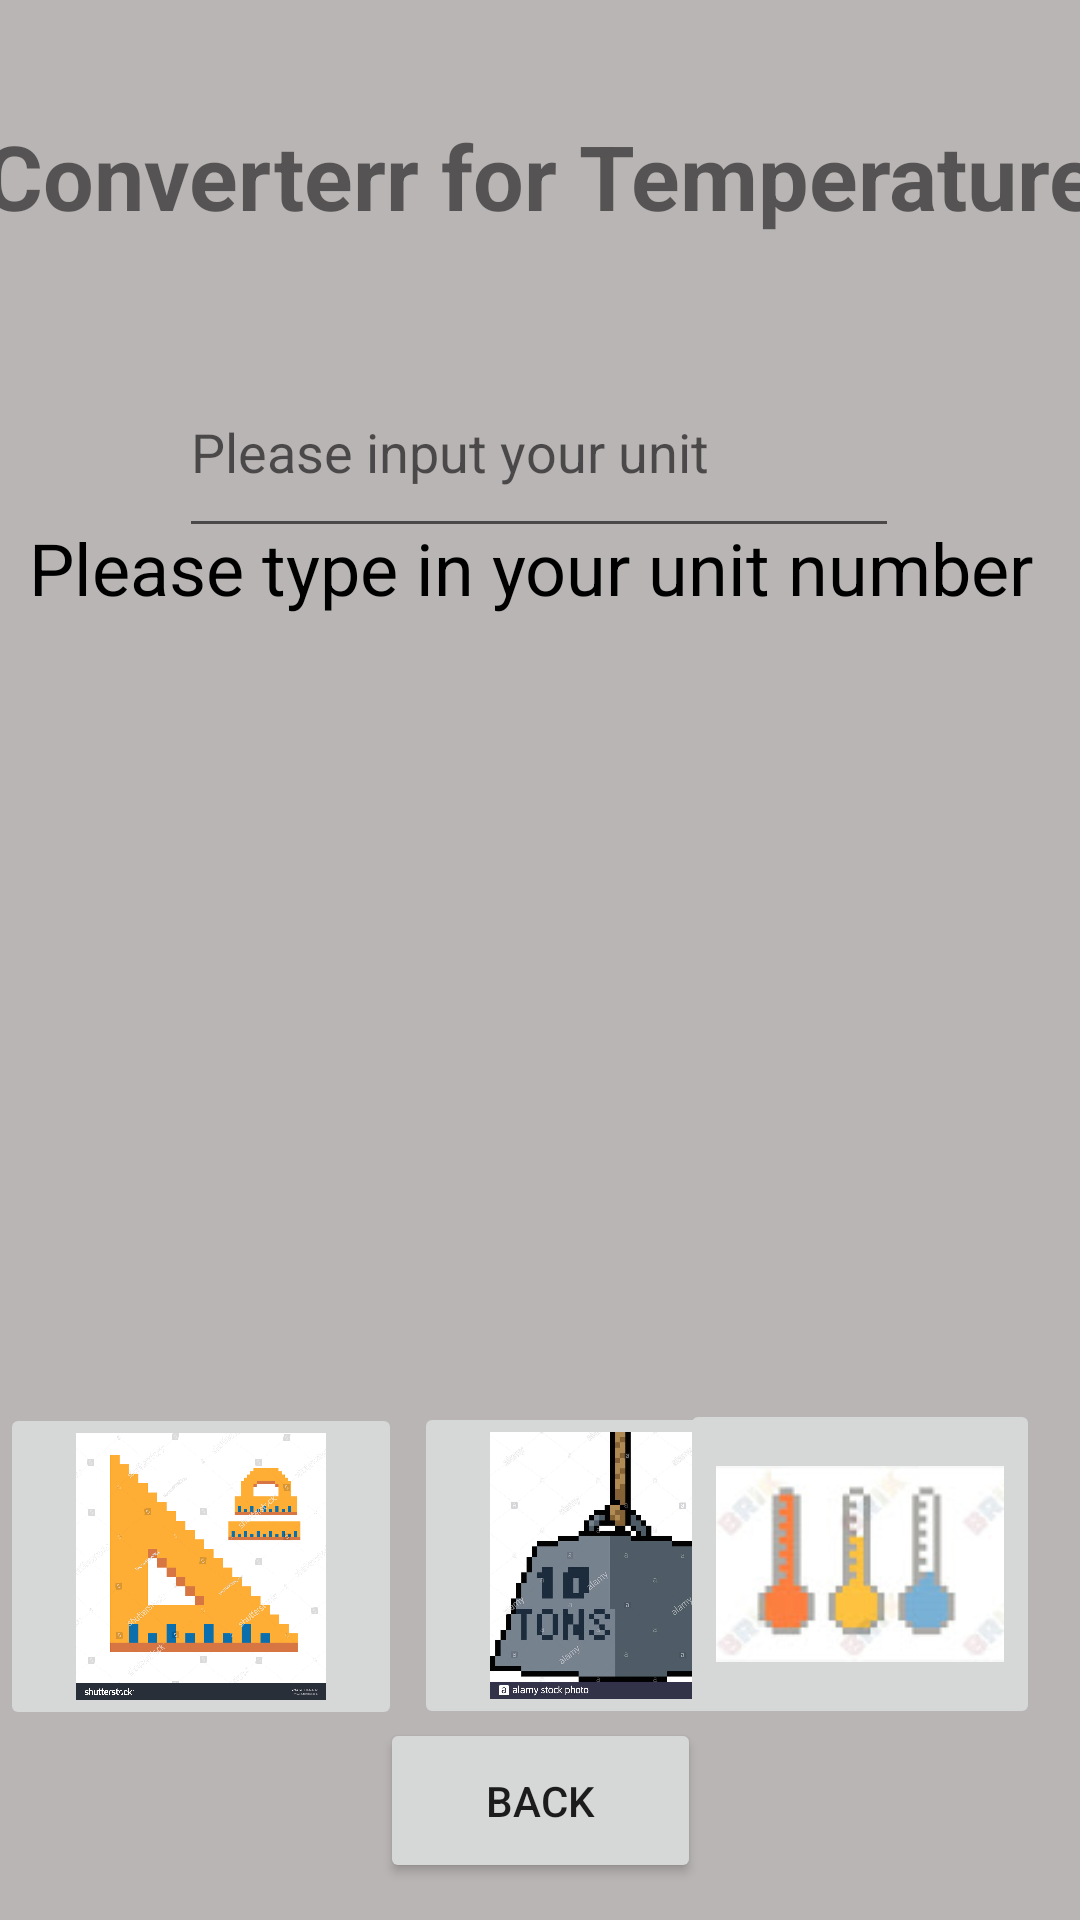

Icon bounding boxes for this 1080px x 1920px phone screenshot, format (x1, y1, x2, y2):
temperature: (680, 1417, 1028, 1711)
